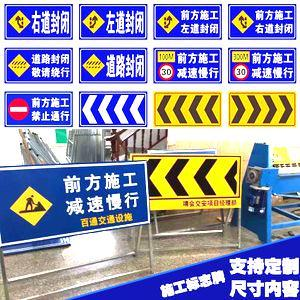sign: (2, 161, 146, 240), (135, 151, 243, 206), (78, 47, 147, 84), (153, 47, 221, 84), (228, 48, 296, 84), (79, 91, 147, 127), (3, 91, 72, 126), (154, 5, 221, 41), (3, 49, 73, 83), (229, 4, 296, 39), (228, 91, 295, 126), (4, 4, 72, 38), (80, 4, 146, 39), (154, 91, 221, 124)
